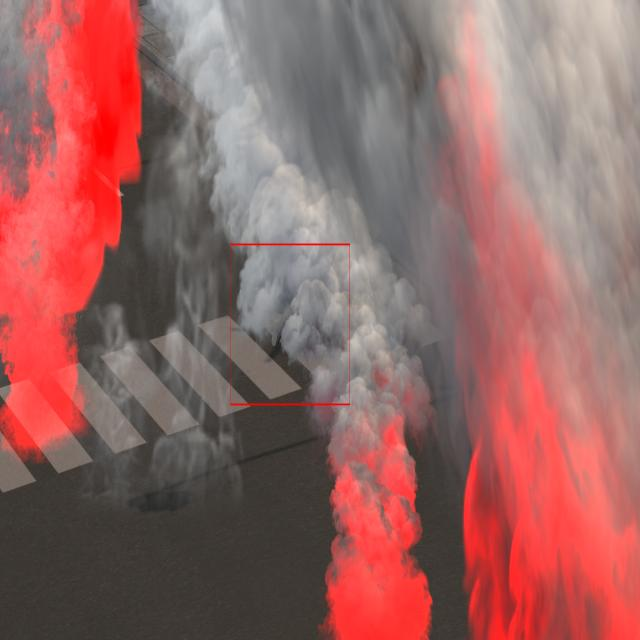Human: (255, 248, 344, 371)
